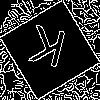K: (25, 25, 68, 77)
